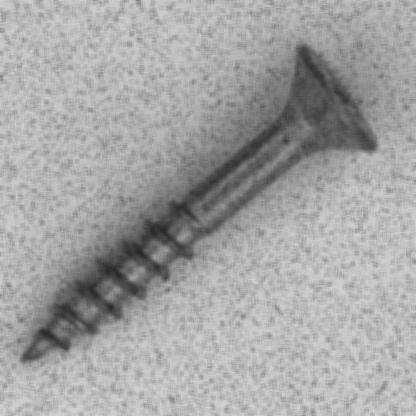metal: (19, 42, 378, 363)
